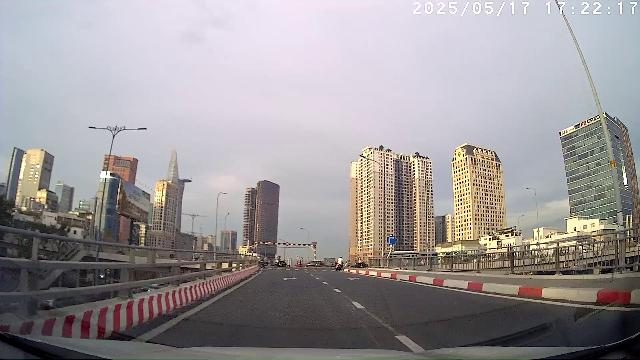301d-cac-xe-chi-duoc-re-phai-2: (386, 236, 396, 244)
